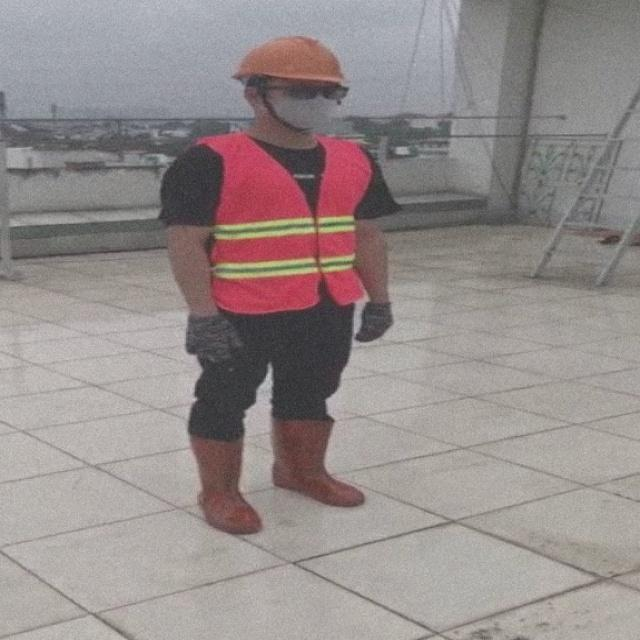Capacete: (233, 36, 344, 84)
Colete: (198, 133, 371, 313)
Oculos: (266, 85, 348, 101)
Pessoa: (160, 36, 398, 533)
